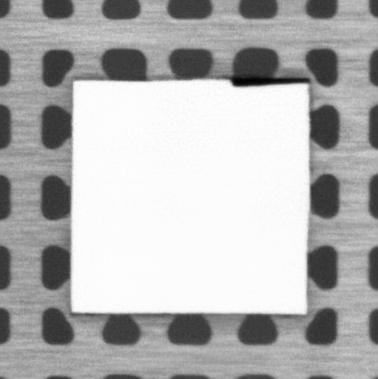DIE_BROKEN: (229, 76, 310, 88)
